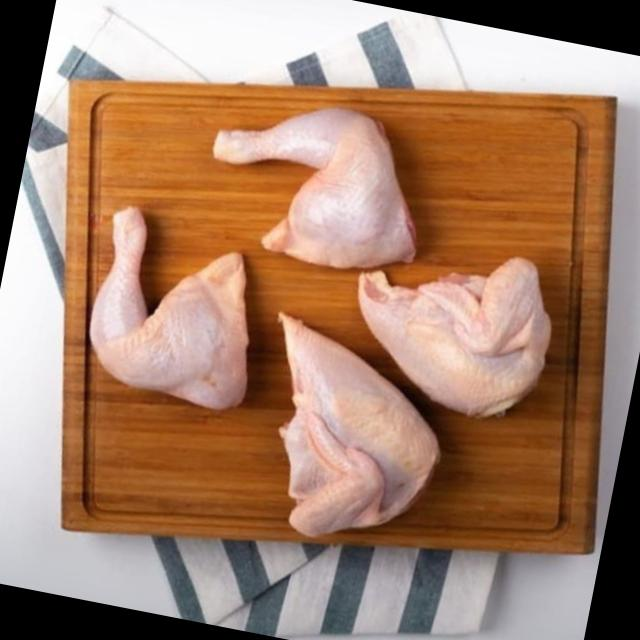chicken: (237, 315, 457, 554), (198, 87, 438, 283), (336, 230, 564, 430), (83, 206, 274, 415)
